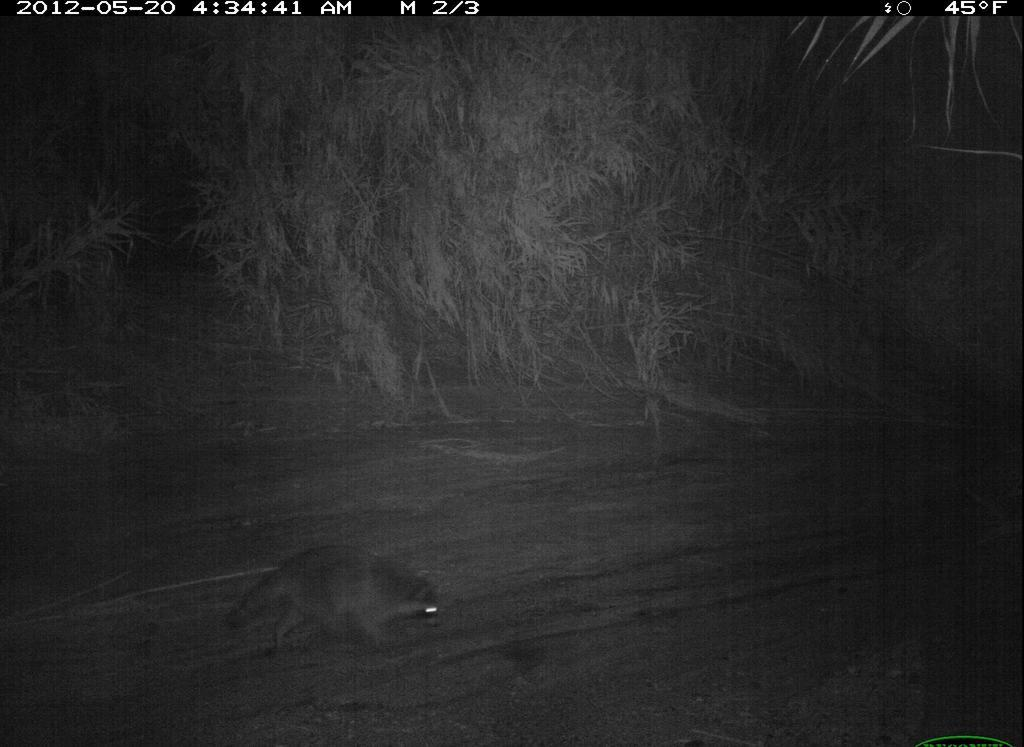raccoon: (219, 541, 463, 673)
